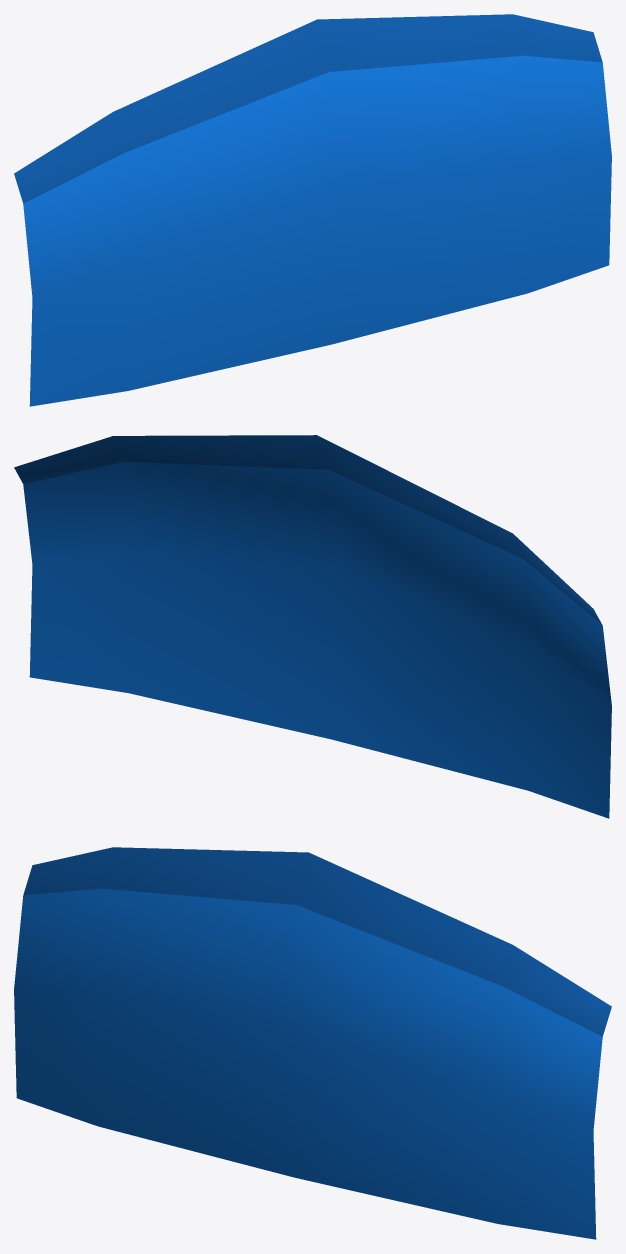
The model's file is Ninja Mask 01.FBX.
The picture shows the model from 3 angles, top to bottom: view 1: azimuth 30°, elevation 25°; view 2: azimuth 150°, elevation 25°; view 3: azimuth 330°, elevation 25°; orthographic projection.
Parts seen in each view (by area): view 1: Ninja Mask 01; view 2: Ninja Mask 01; view 3: Ninja Mask 01.
Part boxes in pixels (x1=…): Ninja Mask 01: x1=14, y1=14, x2=611, y2=406; Ninja Mask 01: x1=14, y1=435, x2=611, y2=818; Ninja Mask 01: x1=14, y1=847, x2=611, y2=1239.
Bounding box in the file's own units: 58.97 × 30.61 × 6.64.
Materials: 1 (1 with a texture image).
